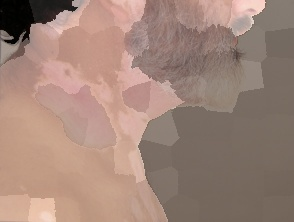vitiligo: (0, 0, 271, 191)
